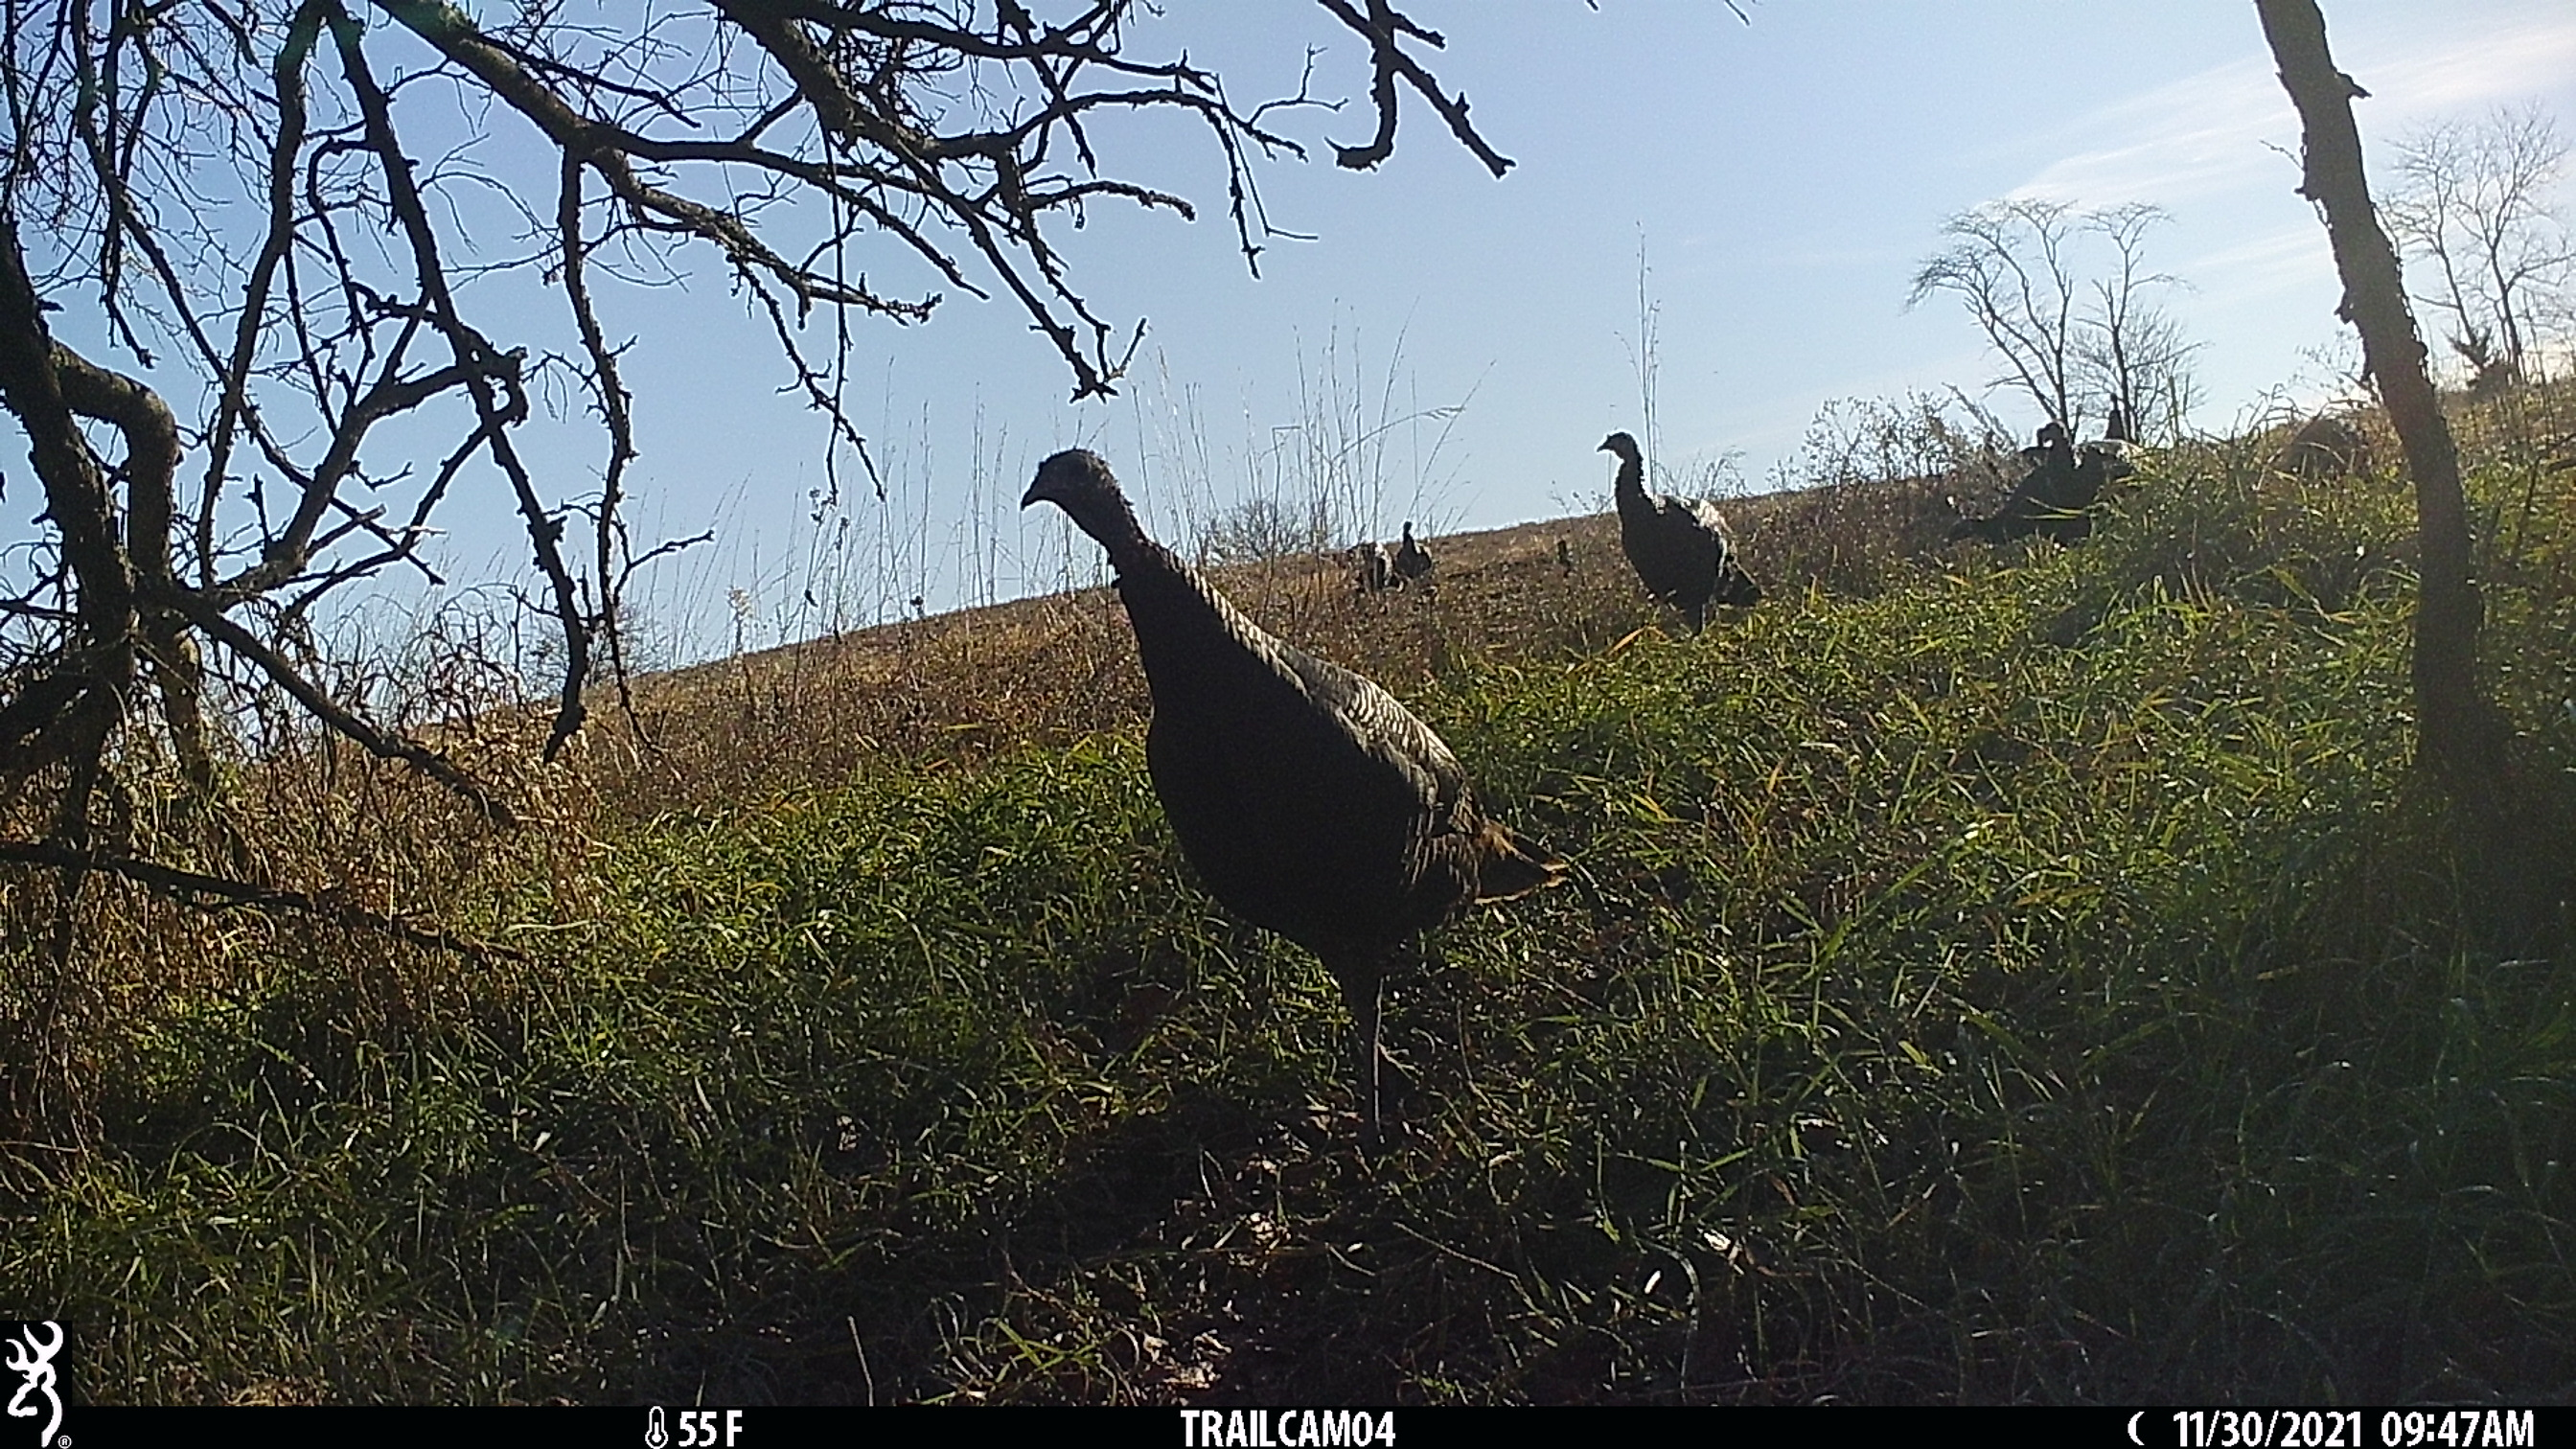Turkey: (1016, 437, 1580, 977), (1592, 425, 1780, 612), (1948, 416, 2075, 550), (2054, 407, 2146, 534), (1401, 513, 1440, 584)
